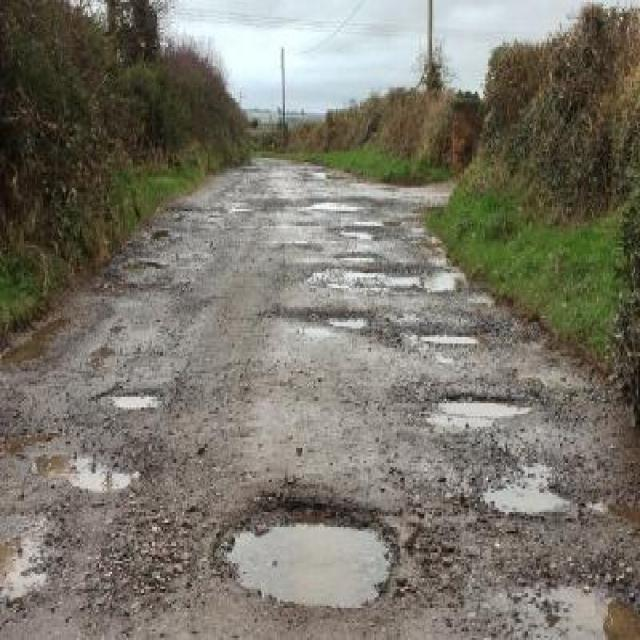Pothole: (212, 496, 401, 611), (36, 443, 150, 492), (476, 464, 582, 515), (3, 519, 59, 605), (267, 302, 384, 332), (438, 392, 537, 417), (94, 383, 166, 408), (427, 268, 467, 292), (336, 223, 389, 240)
